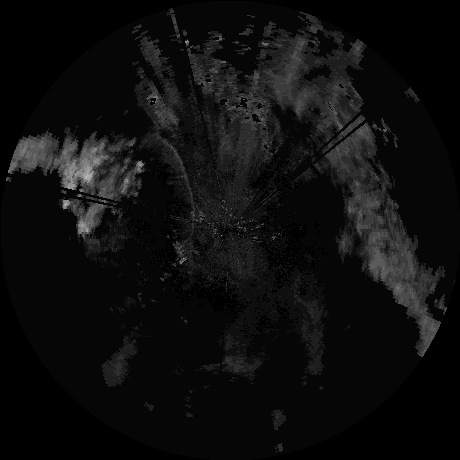frontgust: (157, 136, 196, 243)
